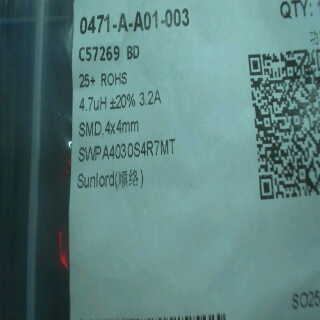4.7uH: (78, 95, 109, 114)
